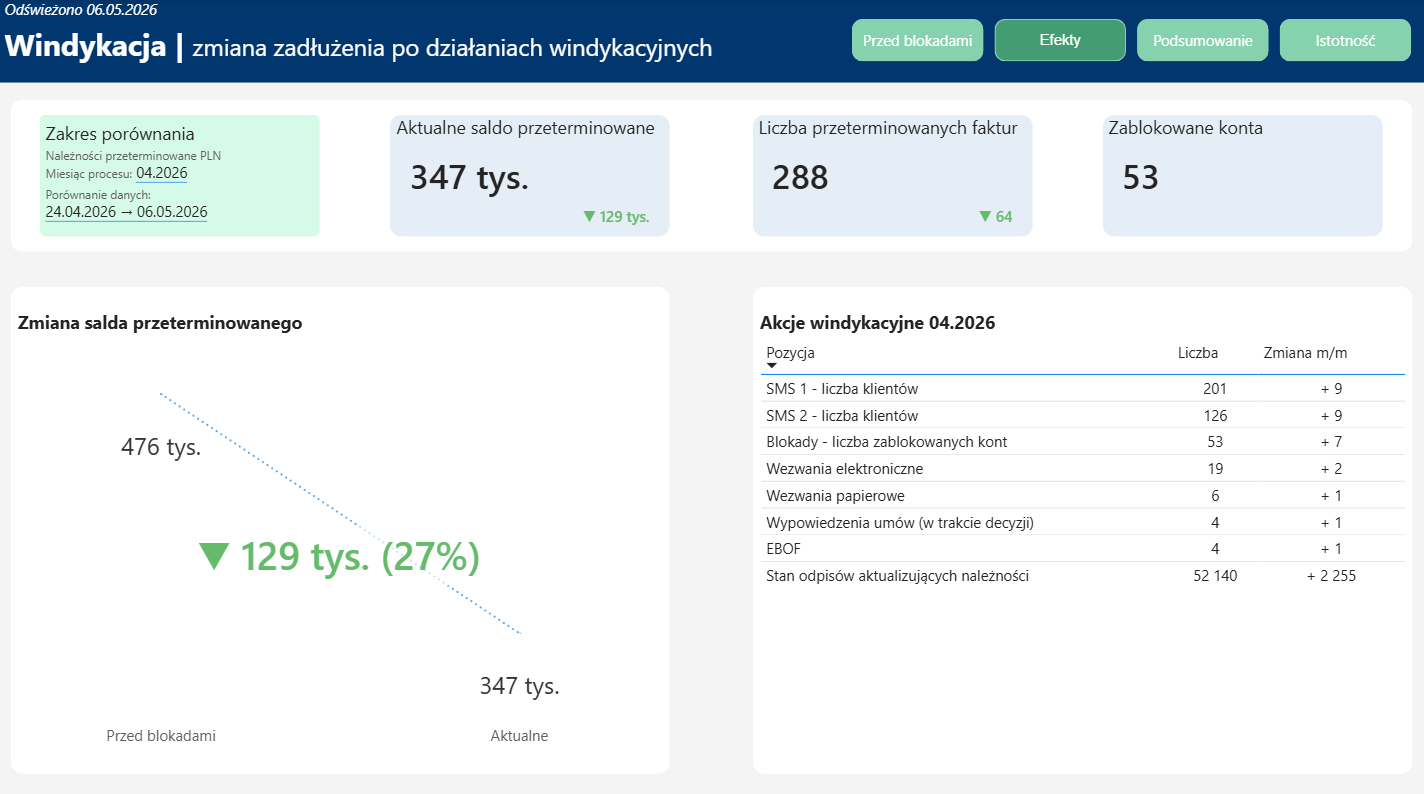

What the dashboard file says about the page in this screenshot:
{"tool":"powerbi","page":{"name":"Efekty","canvas":[1280,720],"ordinal":1},"visuals":[{"type":"textbox","box":[0,0,1280.2,75],"z":0},{"type":"shape","box":[10.9,90.5,1258.3,135.8],"z":1000},{"type":"pageNavigator","box":[765.8,18,503.6,38.6],"z":2000},{"type":"shape","box":[37.1,104.1,250.7,108.6],"z":3000},{"type":"shape","box":[351.2,104.1,250.7,108.6],"z":4000},{"type":"shape","box":[991.2,104.1,250.7,108.6],"z":5000},{"type":"shape","box":[677.1,104.1,250.7,108.6],"z":6000},{"type":"cardVisual","title":"Liczba przeterminowanych faktur ","fields":{"Data":["Miary.Aktualna liczba przeterminowanych faktur"]},"box":[677.1,104.1,250.7,148.5],"z":7000},{"type":"cardVisual","title":"Aktualne saldo przeterminowane","fields":{"Data":["Miary.Aktualne saldo przeterminowane"]},"box":[352.1,104.1,249.8,148.5],"z":8000},{"type":"tableEx","fields":{"Values":["Akcje_windykacyjne.Pozycja_display","Miary.Akcje - aktualny miesiąc","Miary.Zmiana akcji m/m"]},"box":[677.1,258.9,592,437.2],"z":9000},{"type":"lineChart","title":"Zmiana salda przeterminowanego ","fields":{"Category":["Etap porównania.Etap"],"Y":["Miary.Saldo przeterminowane - etap"]},"box":[10.9,258.9,591.1,437.2],"z":10000},{"type":"cardVisual","fields":{"Data":["Miary.Zmiana salda - procent tekst"]},"box":[175.1,470.8,286.9,59.3],"z":11000},{"type":"textbox","box":[37.1,104.1,228.1,148.5],"z":12000},{"type":"cardVisual","title":"Zablokowane konta","fields":{"Data":["Miary.Blokady - miesiąc raportu"]},"box":[991.2,104.1,250.7,148.5],"z":13000}]}

Visuals, with their boxes in screenshot pixels (x1, y1, x2, y2), scaled from the page's 1280x720 canvas onto the 1424x794 screenshot:
textbox: 0 0 1423 83
shape: 12 100 1412 250
pageNavigator: 852 20 1412 62
shape: 41 115 320 235
shape: 391 115 670 235
shape: 1103 115 1382 235
shape: 753 115 1032 235
"Liczba przeterminowanych faktur " cardVisual: 753 115 1032 279
"Aktualne saldo przeterminowane" cardVisual: 392 115 670 279
tableEx - Akcje_windykacyjne.Pozycja_display x Miary.Akcje - aktualny miesiąc: 753 286 1412 768
"Zmiana salda przeterminowanego " lineChart: 12 286 670 768
cardVisual - Miary.Zmiana salda - procent tekst: 195 519 514 585
textbox: 41 115 295 279
"Zablokowane konta" cardVisual: 1103 115 1382 279
